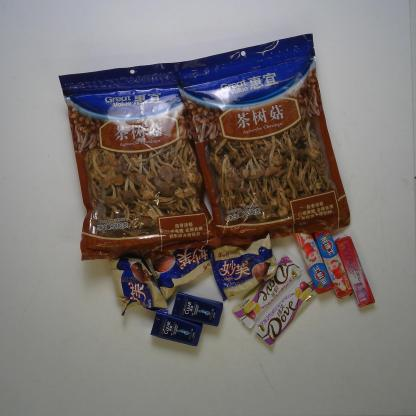Candy: (292, 225, 334, 295), (314, 228, 354, 301), (336, 234, 375, 308)
Chocolate: (232, 255, 302, 328), (253, 280, 319, 346)
Dessert: (207, 232, 281, 301), (149, 235, 214, 296), (108, 255, 168, 316)
Dried Food: (172, 32, 351, 250), (56, 61, 216, 263)
Personal Hygiene: (149, 311, 204, 347), (171, 290, 224, 327)
